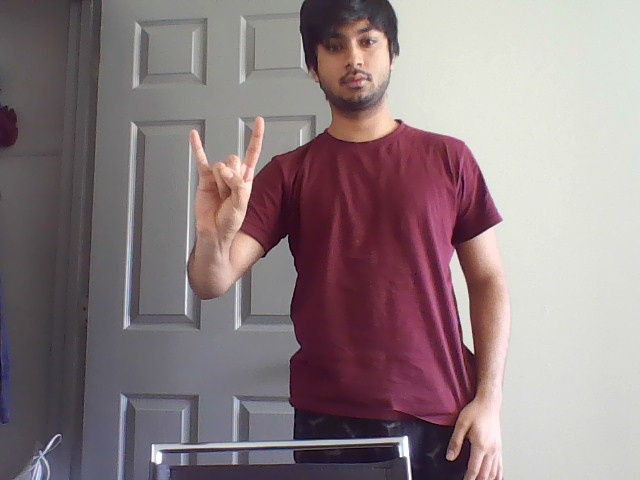help: (185, 115, 267, 185)
